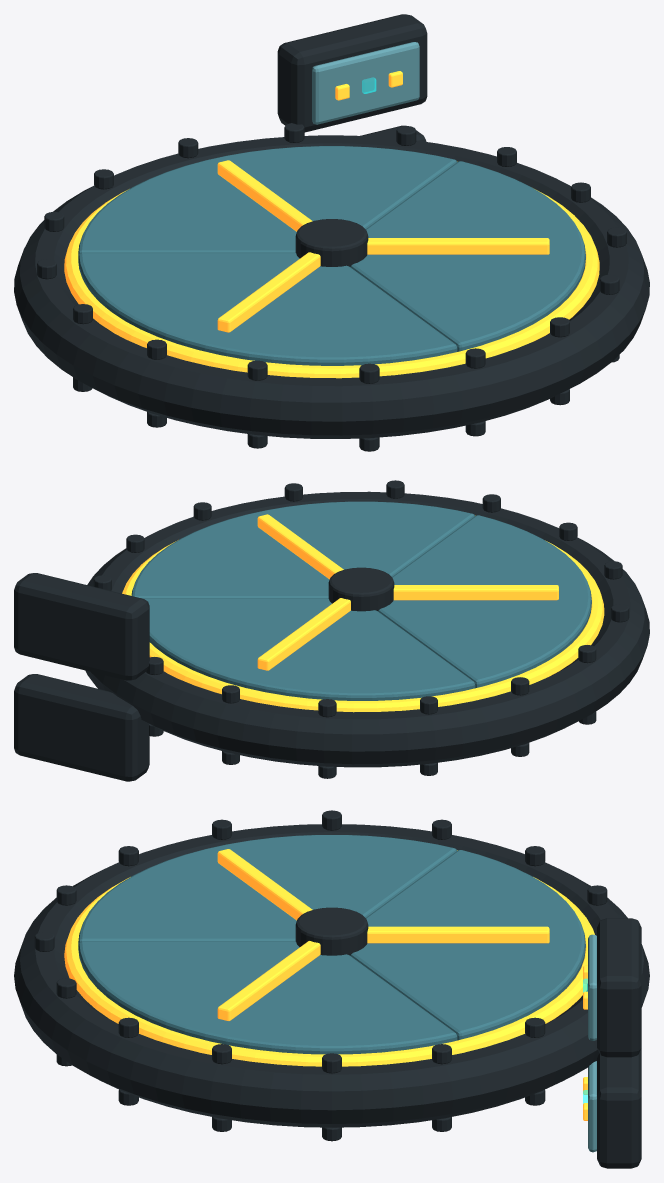
Rendered from 08_round_sliding_tripartite.glb.
3 views of the same model, one above another, from view 1: azimuth 30°, elevation 25°; view 2: azimuth 150°, elevation 25°; view 3: azimuth 270°, elevation 25° (orthographic). The views are drawn at different scales.
Visible parts, largest first — view 1: Outer_Reinforced_Rim, Tripartite_circle_Panel_3, Tripartite_circle_Panel_1, Tripartite_circle_Panel_2, Inner_Pressure_Seal_Top, Control_Top_Housing, Control_Top_Face, Tripartite_Top_Accent_Rib_1.001, Tripartite_Central_Lock.001, Tripartite_Top_Accent_Rib_3.001, Tripartite_Top_Accent_Rib_2.001; view 2: Outer_Reinforced_Rim, Tripartite_circle_Panel_2, Tripartite_circle_Panel_3, Tripartite_circle_Panel_1, Control_Top_Housing, Control_Bottom_Housing, Inner_Pressure_Seal_Top, Tripartite_Top_Accent_Rib_3.001, Tripartite_Central_Lock.001, Tripartite_Top_Accent_Rib_2.001, Tripartite_Top_Accent_Rib_1.001; view 3: Outer_Reinforced_Rim, Tripartite_circle_Panel_1, Tripartite_circle_Panel_2, Tripartite_circle_Panel_3, Inner_Pressure_Seal_Top, Control_Top_Housing, Control_Bottom_Housing, Tripartite_Top_Accent_Rib_2.001, Tripartite_Central_Lock.001, Tripartite_Top_Accent_Rib_1.001, Tripartite_Top_Accent_Rib_3.001, Control_Top_Face (+1 smaller).
Boxes of the visible parts, box(x1,y1,x2,y2) form: Outer_Reinforced_Rim: box(14, 135, 649, 438); Tripartite_circle_Panel_3: box(78, 253, 457, 365); Tripartite_circle_Panel_1: box(350, 161, 585, 351); Tripartite_circle_Panel_2: box(78, 146, 456, 255); Inner_Pressure_Seal_Top: box(64, 161, 599, 378); Control_Top_Housing: box(277, 14, 427, 132); Control_Top_Face: box(312, 42, 419, 124); Tripartite_Top_Accent_Rib_1.001: box(367, 238, 549, 254); Tripartite_Central_Lock.001: box(295, 219, 368, 266); Tripartite_Top_Accent_Rib_3.001: box(217, 252, 320, 332); Tripartite_Top_Accent_Rib_2.001: box(217, 160, 312, 231); Outer_Reinforced_Rim: box(85, 491, 649, 767); Tripartite_circle_Panel_2: box(144, 599, 475, 700); Tripartite_circle_Panel_3: box(378, 515, 591, 688); Tripartite_circle_Panel_1: box(131, 501, 474, 598); Control_Top_Housing: box(14, 573, 149, 680); Control_Bottom_Housing: box(14, 674, 149, 781); Inner_Pressure_Seal_Top: box(122, 515, 604, 712); Tripartite_Top_Accent_Rib_3.001: box(393, 585, 558, 600); Tripartite_Central_Lock.001: box(328, 567, 394, 611); Tripartite_Top_Accent_Rib_2.001: box(257, 598, 350, 670); Tripartite_Top_Accent_Rib_1.001: box(257, 514, 343, 579); Outer_Reinforced_Rim: box(14, 824, 649, 1127); Tripartite_circle_Panel_1: box(78, 942, 457, 1054); Tripartite_circle_Panel_2: box(350, 850, 585, 1040); Tripartite_circle_Panel_3: box(78, 835, 456, 944); Inner_Pressure_Seal_Top: box(64, 850, 594, 1066); Control_Top_Housing: box(597, 918, 641, 1057); Control_Bottom_Housing: box(597, 1048, 641, 1168); Tripartite_Top_Accent_Rib_2.001: box(367, 926, 549, 943); Tripartite_Central_Lock.001: box(295, 907, 368, 955); Tripartite_Top_Accent_Rib_1.001: box(217, 941, 320, 1020); Tripartite_Top_Accent_Rib_3.001: box(217, 849, 312, 920); Control_Top_Face: box(588, 934, 596, 1040).
Size of the model in its own units: 1.14 by 0.38 by 1.14.
